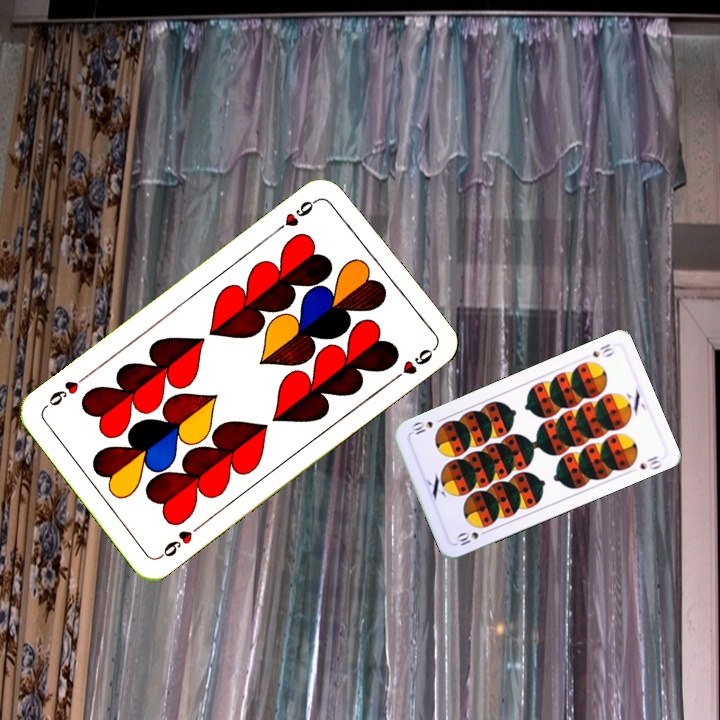H9: (155, 519, 205, 561), (272, 194, 322, 235)
S10: (451, 526, 491, 548), (588, 339, 616, 360)
